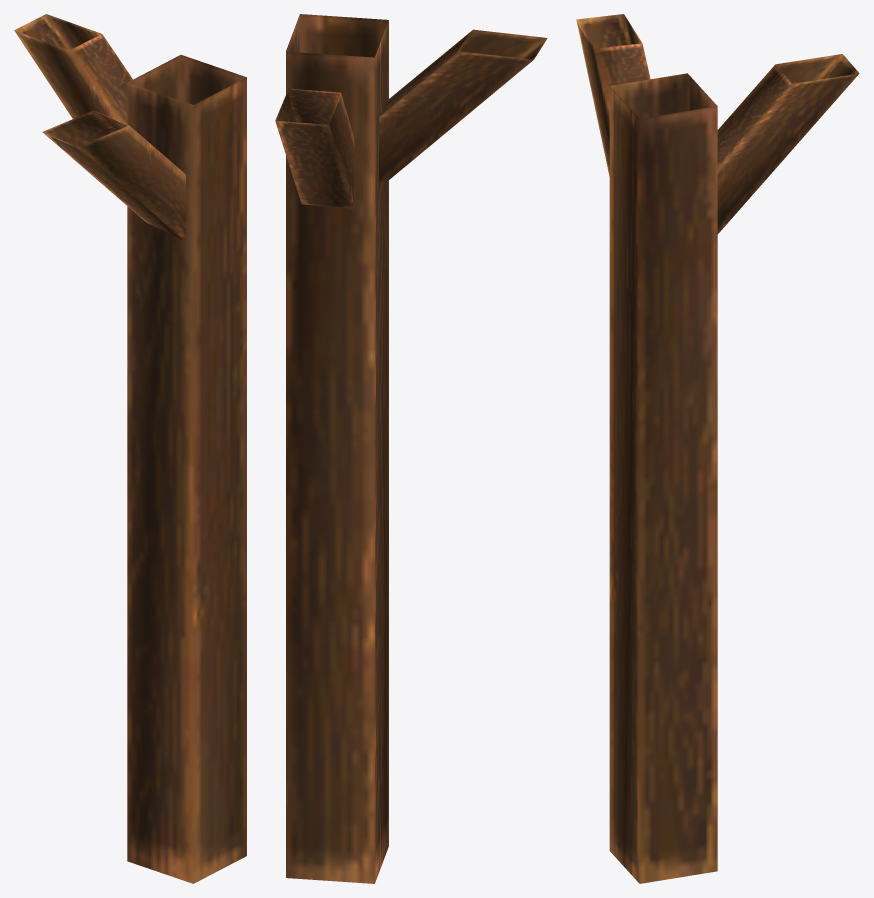
Rendered from SWORDLIGHT20_JAILPLATSUPPORT69.fbx.
The picture shows the model from 3 angles, left to right: view 1: azimuth 30°, elevation 25°; view 2: azimuth 150°, elevation 25°; view 3: azimuth 270°, elevation 25°; orthographic projection. The views are drawn at different scales.
Visible parts, largest first — view 1: SWORDLIGHT20_JAILPLATSUPPORT69; view 2: SWORDLIGHT20_JAILPLATSUPPORT69; view 3: SWORDLIGHT20_JAILPLATSUPPORT69.
Boxes of the visible parts, <box> form: SWORDLIGHT20_JAILPLATSUPPORT69: <box>14,14,246,883</box>; SWORDLIGHT20_JAILPLATSUPPORT69: <box>275,14,547,883</box>; SWORDLIGHT20_JAILPLATSUPPORT69: <box>576,14,859,883</box>.
Size of the model in its own units: 11567 by 40636 by 13583.
Materials: 1 (1 with a texture image).
